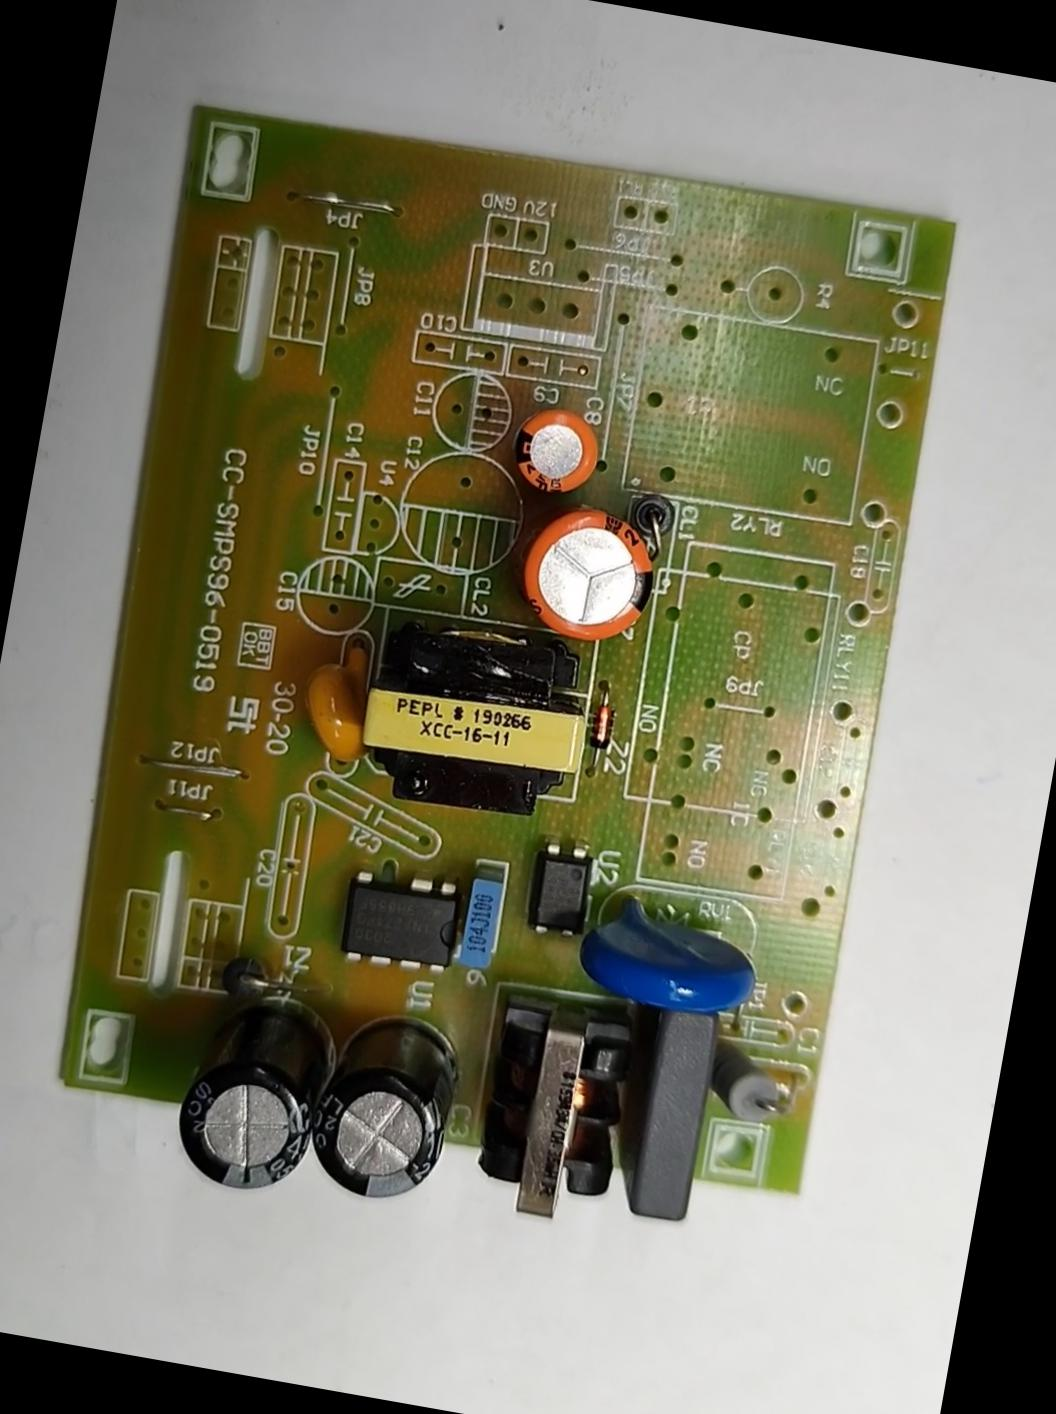Cap1: (511, 489, 667, 657)
Cap2: (507, 397, 609, 500)
Cap3: (307, 1003, 471, 1215)
Cap4: (167, 988, 335, 1208)
MOSFET: (337, 858, 469, 987)
Mov: (573, 879, 773, 1024)
Resistor: (708, 1035, 799, 1127)
Transformer: (355, 611, 607, 831), (471, 995, 650, 1234)
